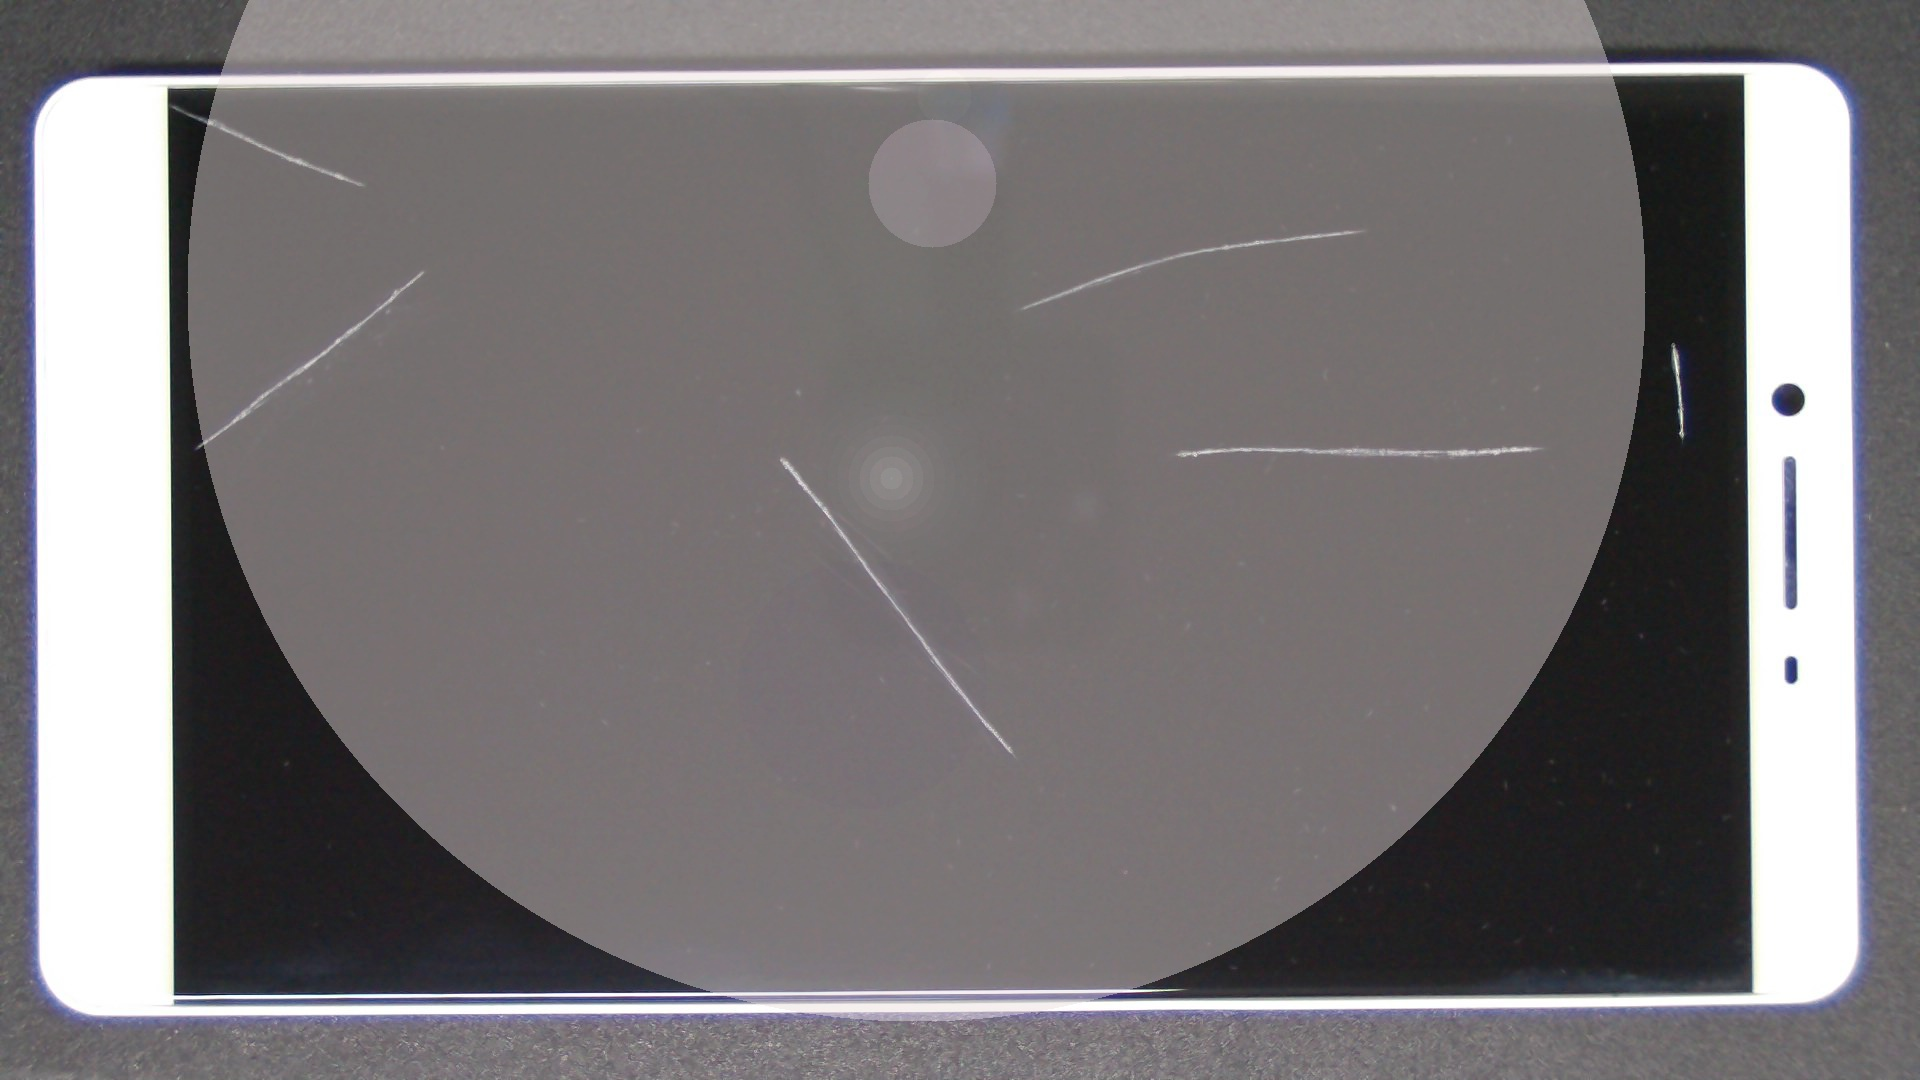oil: (756, 222, 1920, 666), (836, 170, 1920, 513), (389, 228, 1167, 684), (679, 113, 1920, 343), (212, 133, 632, 405), (84, 51, 255, 157)
